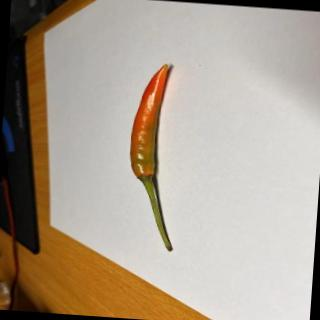Cabai Merah: (123, 60, 189, 253)
